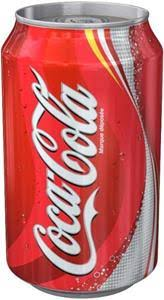coca_cola_can: (1, 3, 160, 296)
